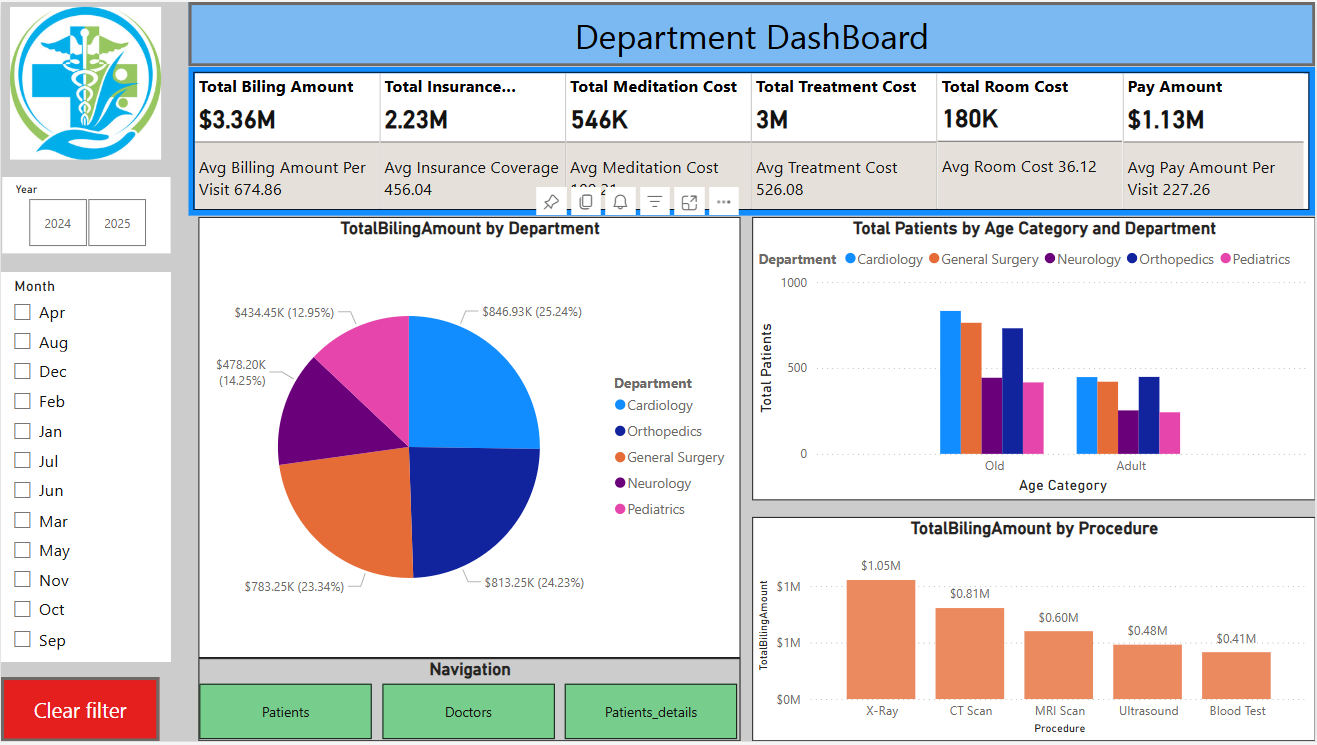

The page's visual inventory and layout, read from the dashboard file:
{"tool":"powerbi","page":{"name":"Minor","canvas":[1280,720],"ordinal":1},"visuals":[{"type":"cardVisual","fields":{"Data":["Measure Calculation.TotalBilingAmount","Measure Calculation.TotalInsuranceCovered","Measure Calculation.TotalMeditationCost","Measure Calculation.TotalTreatmentCost","Measure Calculation.totalroomcost","Measure Calculation.Pay_Amount"]},"box":[182.2,62.7,1097.9,144.8],"z":0},{"type":"image","box":[0,0,165,158.8],"z":1000},{"type":"slicer","fields":{"Values":["Calender.Date.Variation.Date Hierarchy.Year"]},"box":[1.4,170,164.3,74.3],"z":2000},{"type":"slicer","fields":{"Values":["Calender.Short Month Name"]},"box":[0,262.9,165.7,380],"z":3000},{"type":"actionButton","box":[182.2,0,1097.9,62.7],"z":4000},{"type":"pieChart","fields":{"Y":["Measure Calculation.TotalBilingAmount"],"Category":["departments.Department"]},"box":[192.5,209.4,527.8,429.7],"z":5000},{"type":"clusteredColumnChart","fields":{"Category":["procedures.Procedure"],"Y":["Measure Calculation.TotalBilingAmount"]},"box":[731.4,501.4,548.6,218.6],"z":6000},{"type":"clusteredColumnChart","fields":{"Category":["patients.Age Category"],"Y":["Measure Calculation.Total Patients"],"Series":["departments.Department"]},"box":[731.4,210,548.6,275.7],"z":7000},{"type":"actionButton","box":[0,657.1,154.3,62.9],"z":8000},{"type":"pageNavigator","title":"Navigation","box":[192.5,639.1,527.8,81.1],"z":9000}]}

Visuals, with their boxes in screenshot pixels (x1, y1, x2, y2):
cardVisual - Measure Calculation.TotalBilingAmount x Measure Calculation.TotalInsuranceCovered: (192, 67, 1306, 214)
image: (7, 3, 174, 165)
slicer - Calender.Date.Variation.Date Hierarchy.Year: (8, 176, 175, 251)
slicer - Calender.Short Month Name: (7, 270, 175, 656)
actionButton: (192, 3, 1306, 67)
pieChart - Measure Calculation.TotalBilingAmount x departments.Department: (202, 216, 738, 652)
clusteredColumnChart - procedures.Procedure x Measure Calculation.TotalBilingAmount: (749, 512, 1306, 734)
clusteredColumnChart - patients.Age Category x Measure Calculation.Total Patients: (749, 217, 1306, 496)
actionButton: (7, 670, 163, 734)
"Navigation" pageNavigator: (202, 652, 738, 734)
